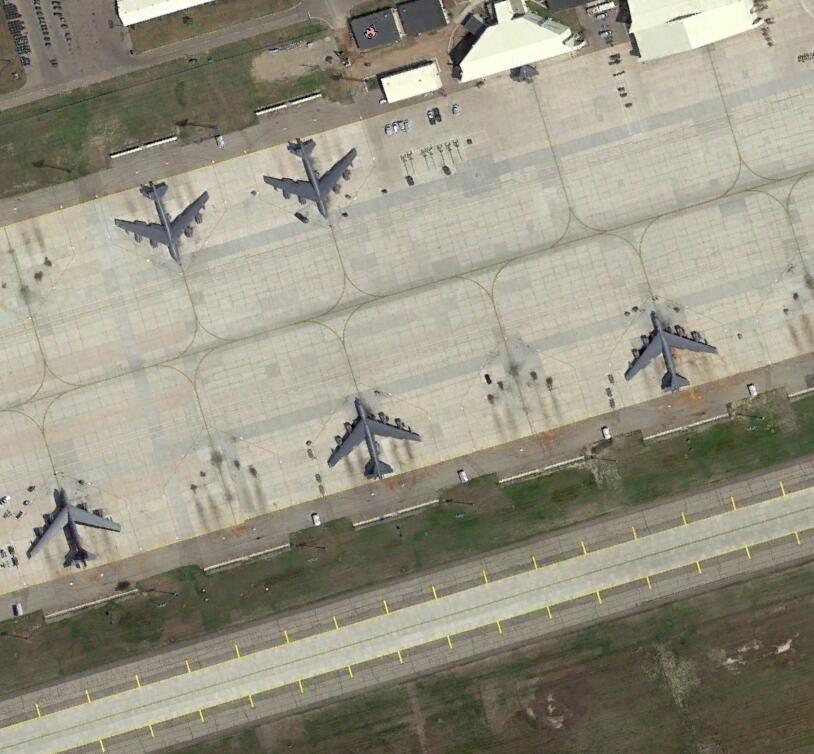A8: (318, 397, 430, 487), (110, 177, 219, 268), (618, 303, 722, 397), (262, 136, 363, 225), (22, 488, 125, 571)
